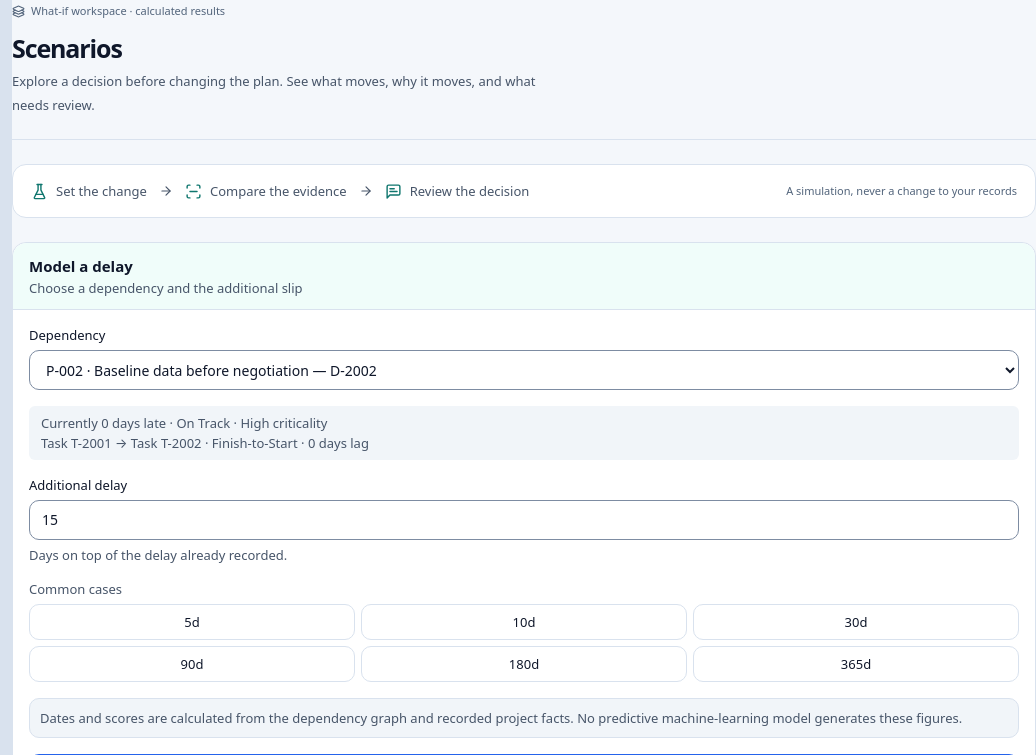
it: ScenariosPage › rejects fractional delay input instead of silently rounding it
Clear the number field labelled "Additional delay": (524, 520) [29,500,1019,540]
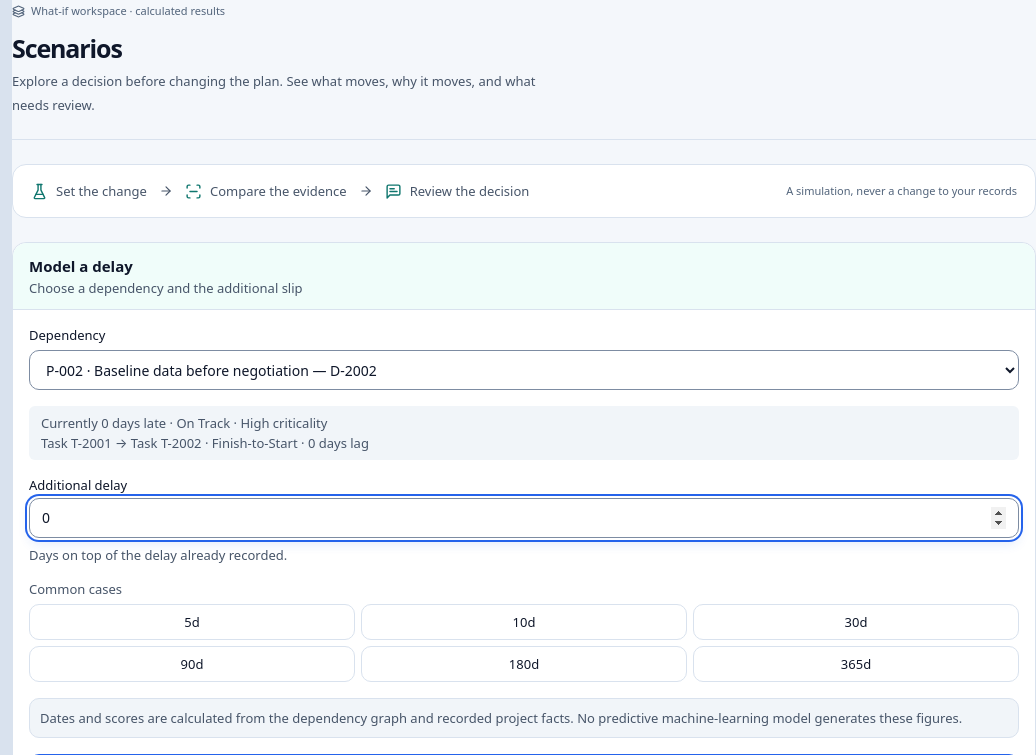
In the number field labelled "Additional delay": (524, 518) [29,498,1019,538], type "1.5"
(page scrolled)
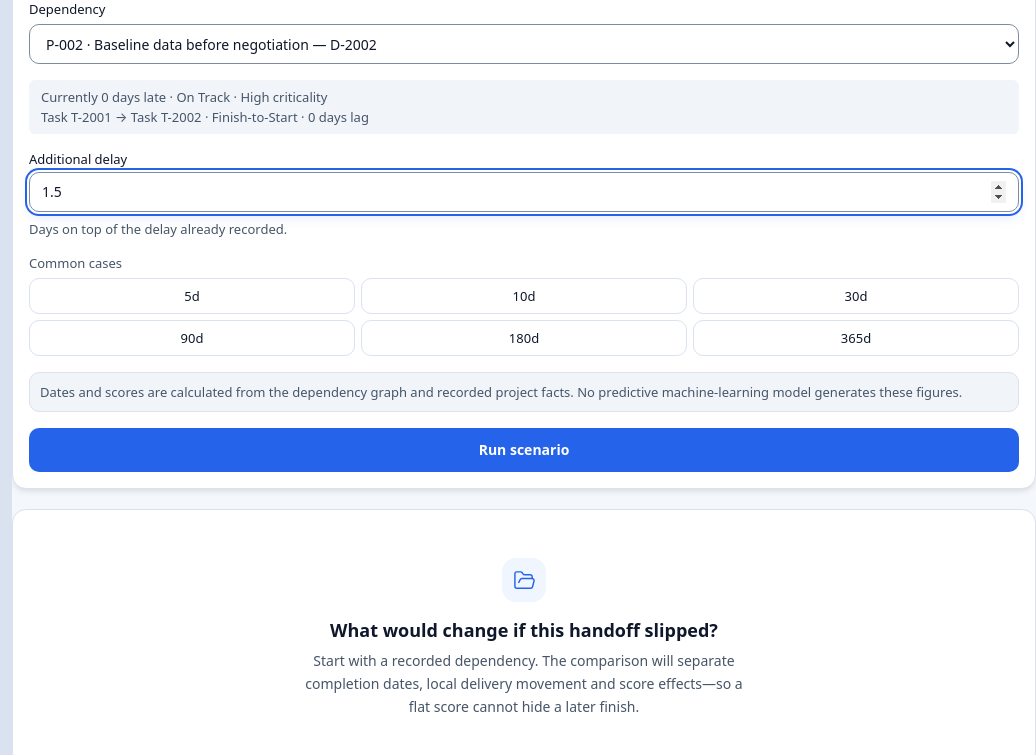
Click the button "Run scenario": (524, 450) [29,428,1019,472]
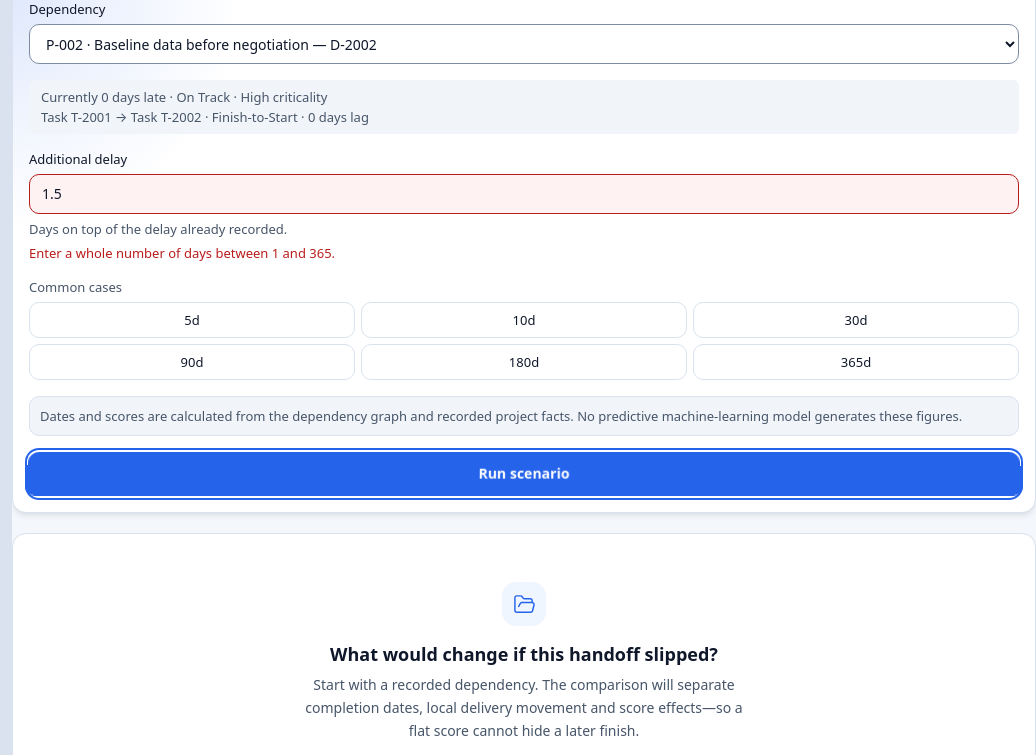
Now the message shows "whole number", box [29,244,335,262]
